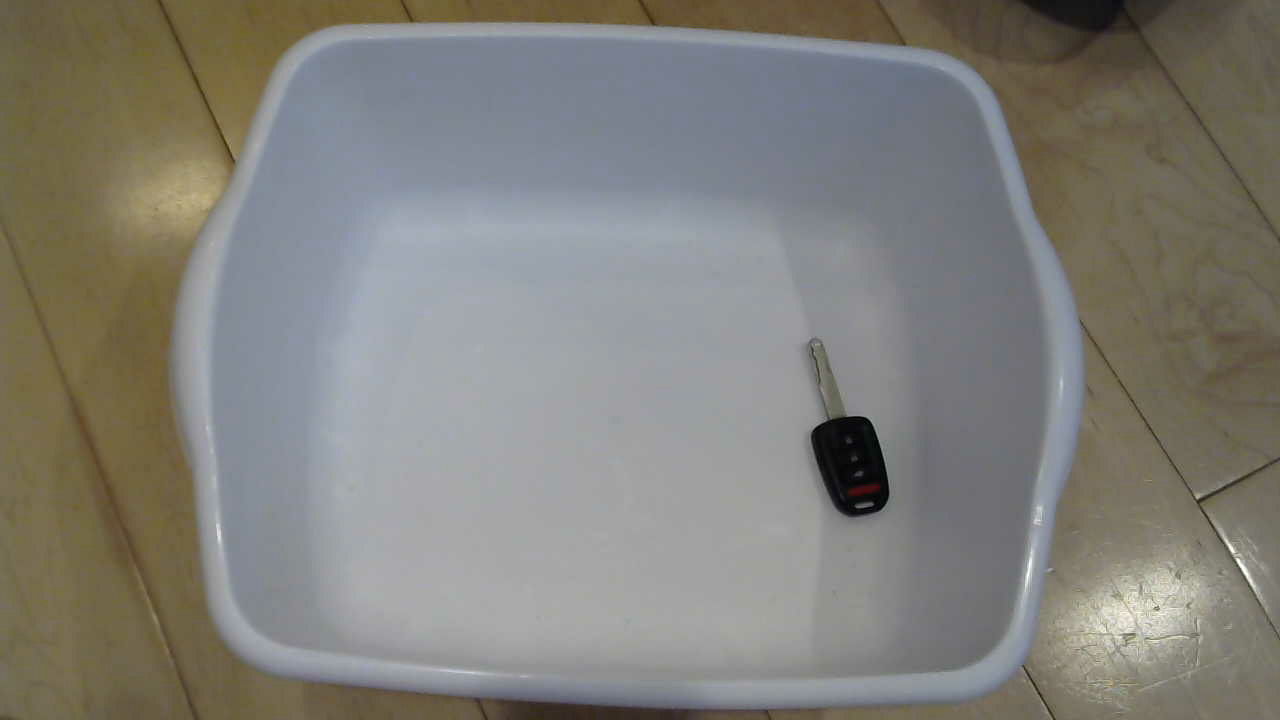key: (771, 346, 925, 520)
